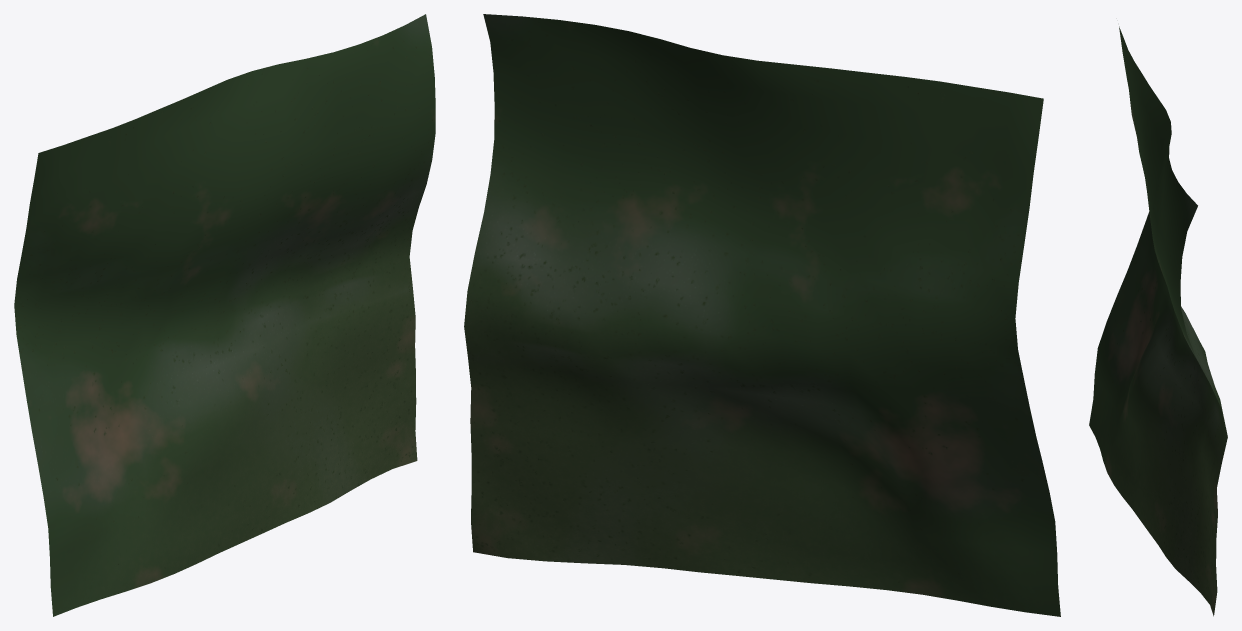
File: terrain_far_01_05.obj
The picture shows the model from 3 angles, left to right: view 1: azimuth 30°, elevation 25°; view 2: azimuth 150°, elevation 25°; view 3: azimuth 270°, elevation 25°; orthographic projection. The views are drawn at different scales.
Parts seen in each view (by area): view 1: terrain_far_01_05; view 2: terrain_far_01_05; view 3: terrain_far_01_05.
Part boxes in pixels (box(x1,y1,x2,y2)): terrain_far_01_05: box(14, 14, 435, 616); terrain_far_01_05: box(464, 14, 1060, 616); terrain_far_01_05: box(1089, 26, 1227, 616).
Size of the model in its own units: 640 by 640 by 196.
Materials: 1 (1 with a texture image).
